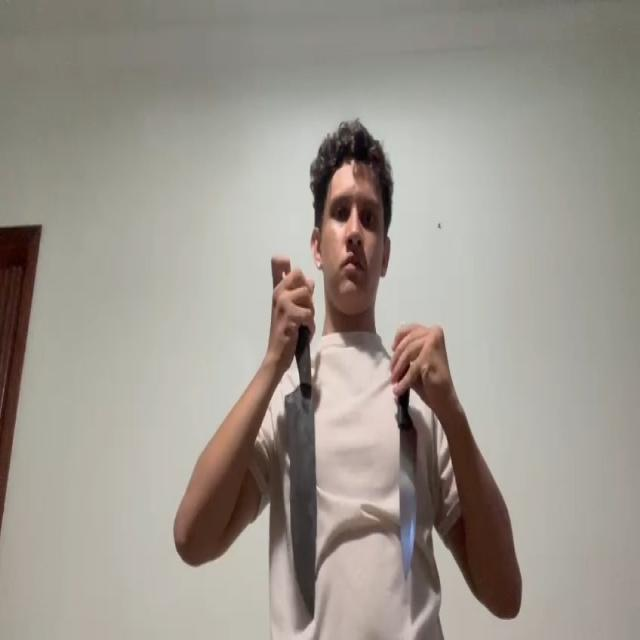knife: (285, 386, 317, 623), (396, 414, 418, 580)
